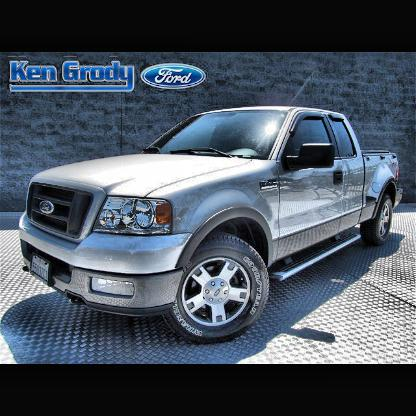Ford F-150 Regular Cab 2007: (18, 105, 407, 344)
